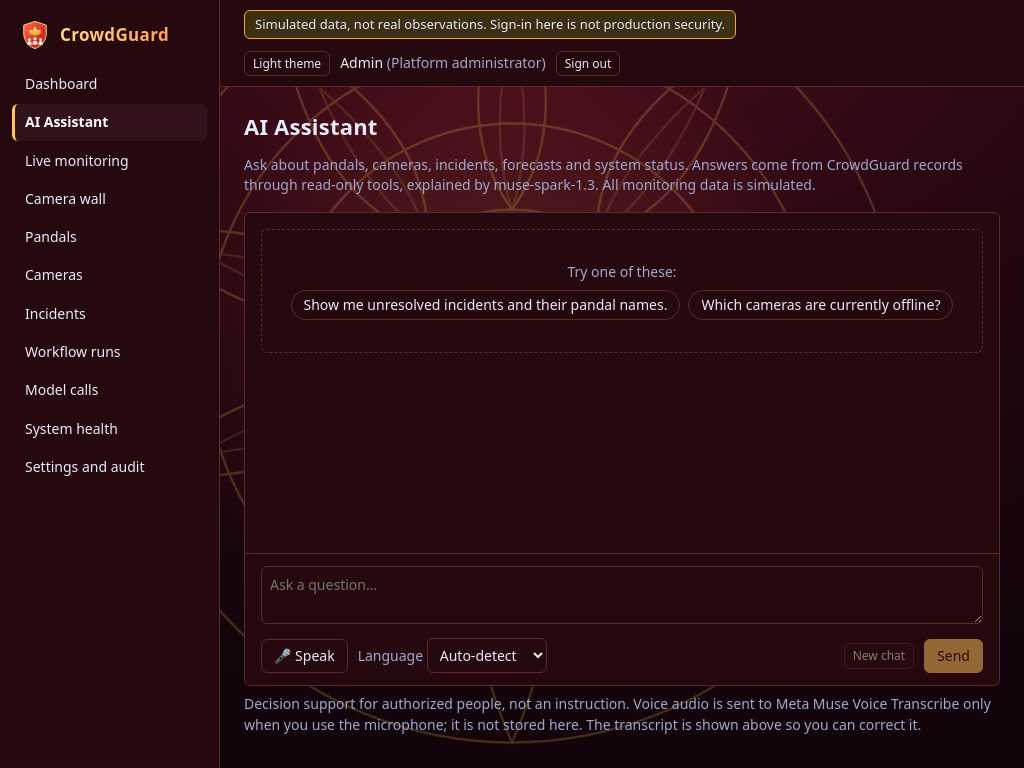
Test case: Assistant page › shows a status message when the server reports an unavailable or limited answer
Type "x" into the text box named "Your question" at {"x": 622, "y": 595}, box [261,566,983,624]
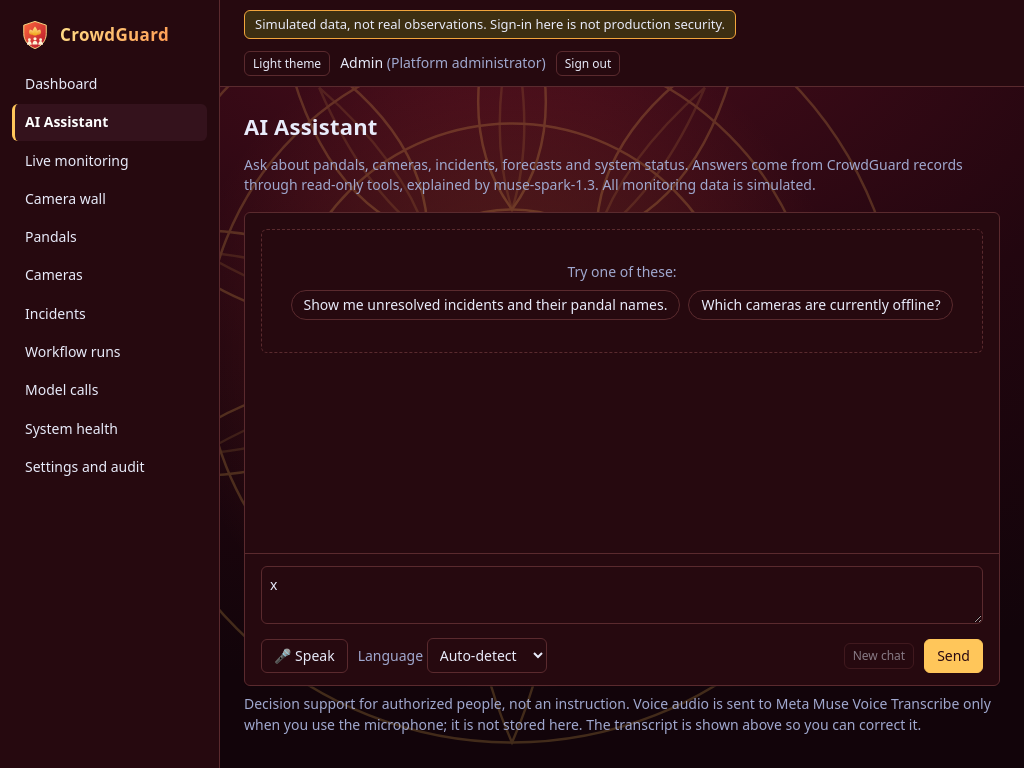
Click the button "Send" at {"x": 954, "y": 656}, box [924,639,983,673]
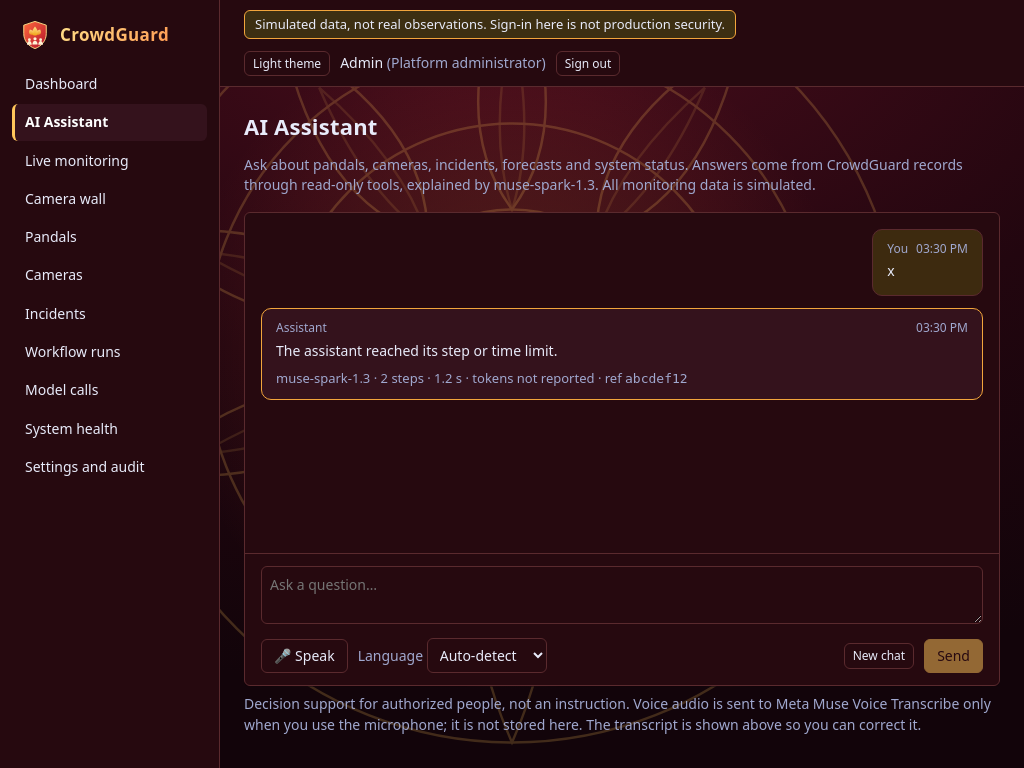
expect the text "The assistant reached its step or time limit." is shown: met, box [276,341,557,360]
